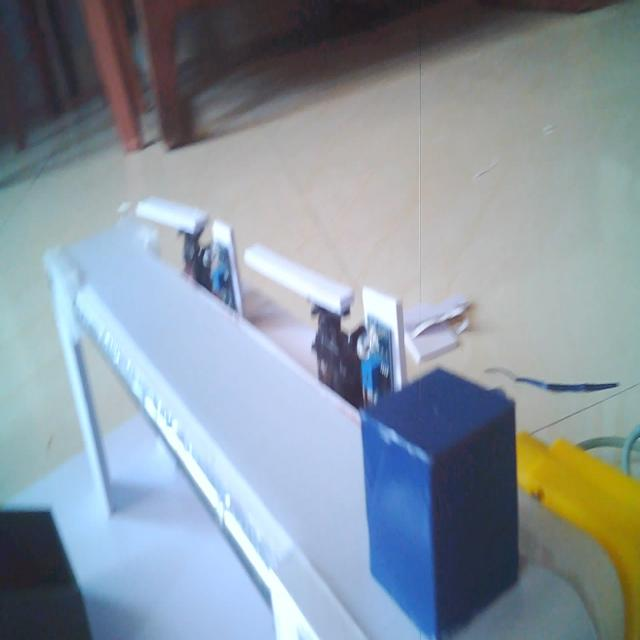blue: (358, 364, 525, 640)
